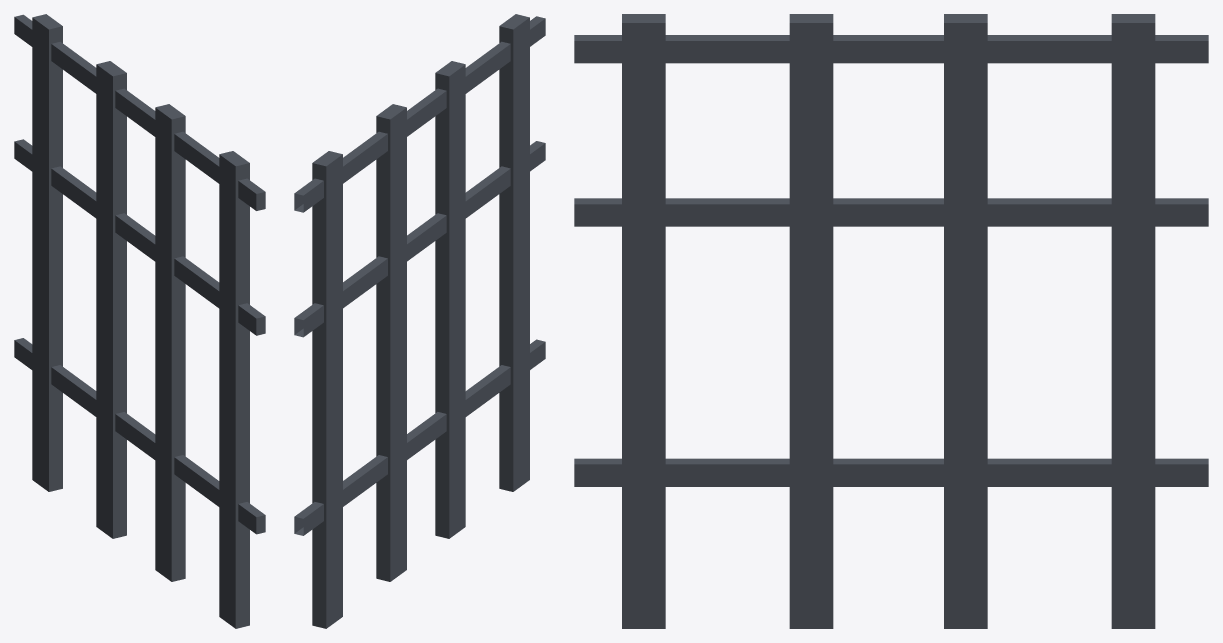
The model's file is fench3.FBX.
3 renders of one model, left to right at view 1: azimuth 30°, elevation 25°; view 2: azimuth 150°, elevation 25°; view 3: azimuth 270°, elevation 25°, orthographic. The views are drawn at different scales.
Visible parts, largest first — view 1: fench3; view 2: fench3; view 3: fench3.
Part boxes in pixels (left/top/right/bottom): fench3: left=14, top=14, right=265, bottom=628; fench3: left=294, top=14, right=545, bottom=628; fench3: left=574, top=14, right=1208, bottom=628.
Size of the model in its own units: 0.2438 by 7.69 by 7.29.
